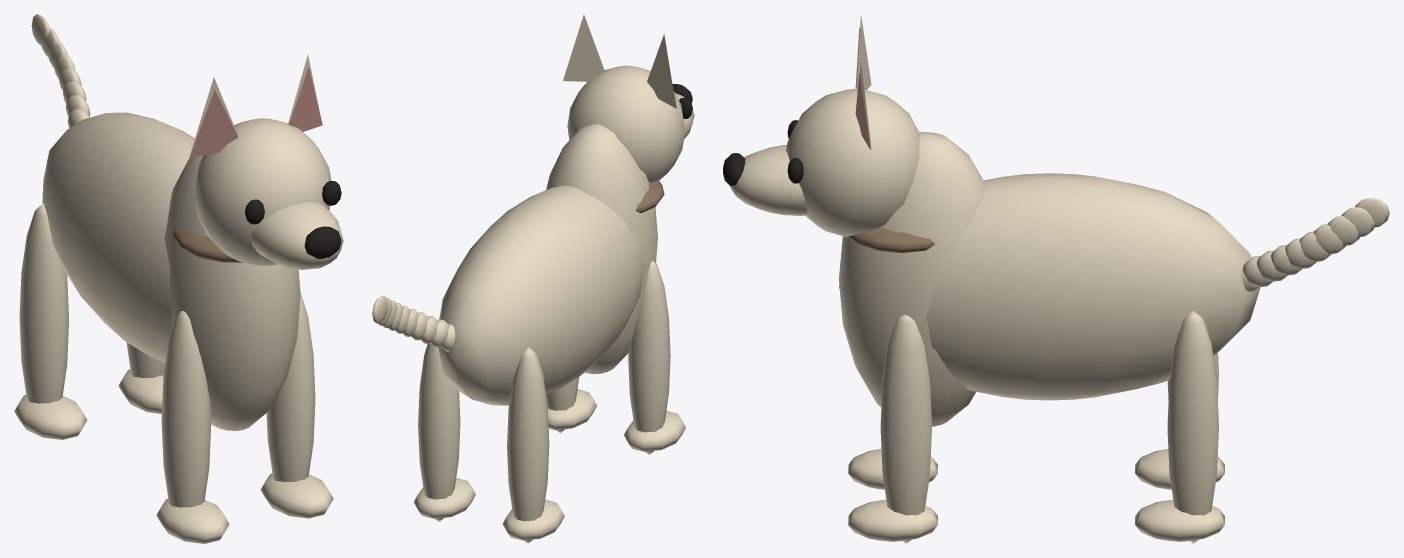
Rendered from dog.glb.
The picture shows the model from 3 angles, left to right: view 1: azimuth 30°, elevation 25°; view 2: azimuth 150°, elevation 25°; view 3: azimuth 270°, elevation 25°; orthographic projection. The views are drawn at different scales.
Size of the model in its own units: 0.3552 by 1.01 by 1.26.
1 material, 1 textured.
